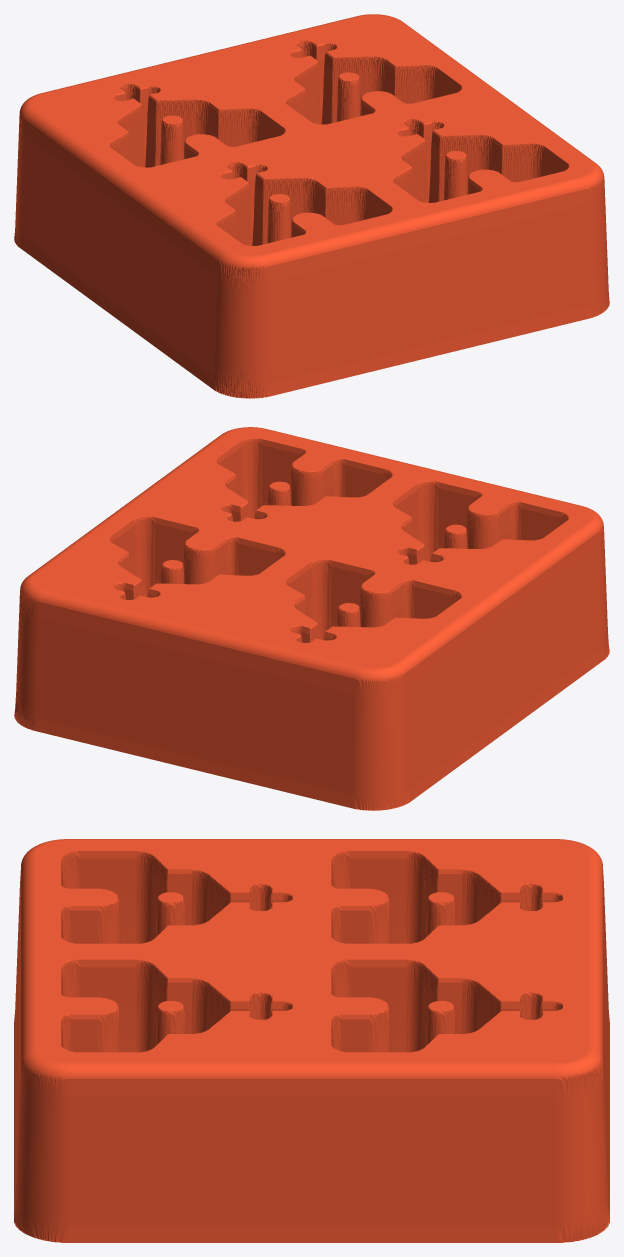
File: mold.glb
3 renders of one model, top to bottom at view 1: azimuth 30°, elevation 25°; view 2: azimuth 150°, elevation 25°; view 3: azimuth 270°, elevation 25°, orthographic. The views are drawn at different scales.
Visible parts, largest first — view 1: geometry_0; view 2: geometry_0; view 3: geometry_0.
Part boxes in pixels (left/top/right/bottom): geometry_0: left=14, top=14, right=609, bottom=398; geometry_0: left=14, top=427, right=609, bottom=810; geometry_0: left=14, top=839, right=609, bottom=1242.
Size of the model in its own units: 0.0948 by 0.0314 by 0.0992.
